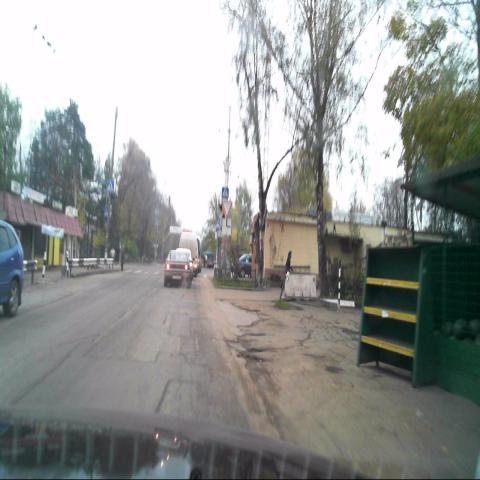2_4: (222, 200, 232, 217)
8_13: (222, 218, 231, 234)
